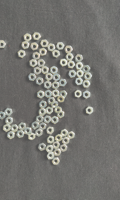nut: (21, 41, 30, 50), (30, 42, 39, 51), (37, 59, 46, 68), (18, 50, 26, 59), (40, 40, 49, 48), (47, 44, 56, 52), (56, 42, 65, 50), (65, 46, 74, 54), (67, 61, 76, 69), (75, 62, 84, 70), (75, 78, 84, 86), (28, 73, 37, 81), (36, 77, 44, 86), (7, 131, 15, 140), (18, 123, 27, 131), (24, 127, 32, 136), (51, 116, 59, 125), (38, 143, 46, 152), (24, 34, 32, 42), (33, 32, 41, 40), (39, 48, 47, 56), (33, 52, 41, 60), (52, 50, 60, 58), (75, 54, 83, 62), (60, 59, 68, 67), (83, 65, 91, 73), (69, 70, 77, 78), (77, 70, 85, 78), (83, 80, 91, 88), (83, 91, 91, 99), (86, 107, 94, 115), (30, 59, 38, 67), (34, 67, 42, 75), (45, 73, 53, 81), (53, 74, 61, 82), (44, 81, 52, 89), (52, 82, 60, 90), (59, 79, 67, 87), (37, 91, 45, 99), (52, 90, 60, 98), (39, 101, 47, 109), (55, 107, 63, 115), (57, 111, 65, 119), (46, 107, 54, 115), (36, 116, 44, 124), (5, 108, 13, 116), (5, 117, 13, 125), (3, 124, 11, 132), (11, 125, 19, 133), (28, 133, 36, 141), (44, 116, 52, 124), (39, 123, 47, 131), (46, 127, 54, 135), (47, 136, 55, 144), (55, 134, 63, 142), (68, 132, 76, 140), (60, 145, 68, 153), (46, 145, 54, 153), (54, 149, 62, 157), (52, 158, 60, 166), (84, 73, 93, 80), (42, 66, 49, 75), (51, 66, 58, 75), (66, 54, 74, 61), (75, 90, 82, 98), (45, 90, 52, 98), (60, 91, 68, 98), (48, 98, 56, 105), (39, 108, 46, 116), (17, 131, 25, 138), (32, 122, 39, 130), (36, 129, 43, 137), (61, 130, 69, 137), (63, 137, 70, 145), (53, 142, 60, 150), (47, 153, 55, 160), (0, 40, 6, 49), (58, 96, 65, 103), (51, 101, 58, 108), (0, 112, 6, 120)
